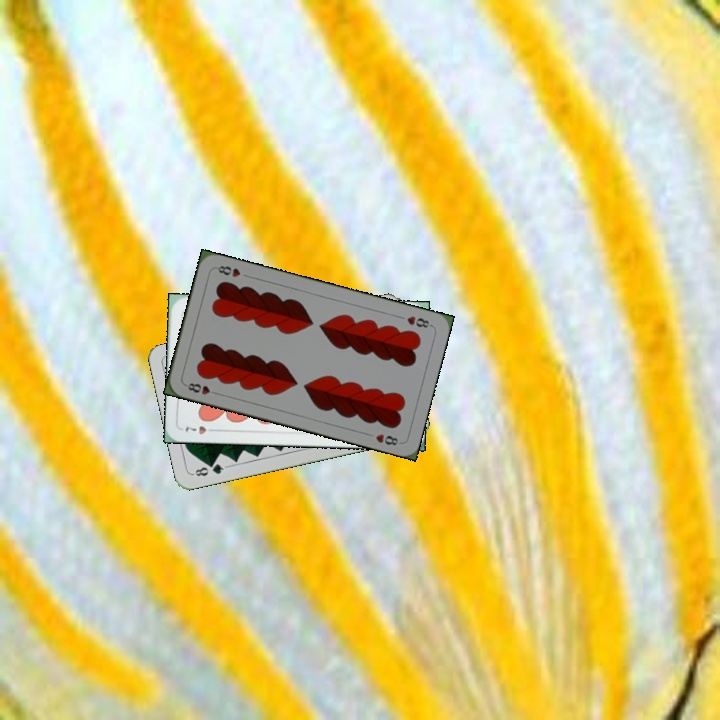G8: (189, 459, 229, 479)
H7: (181, 421, 220, 437)
H8: (181, 379, 221, 397), (403, 312, 434, 330)
